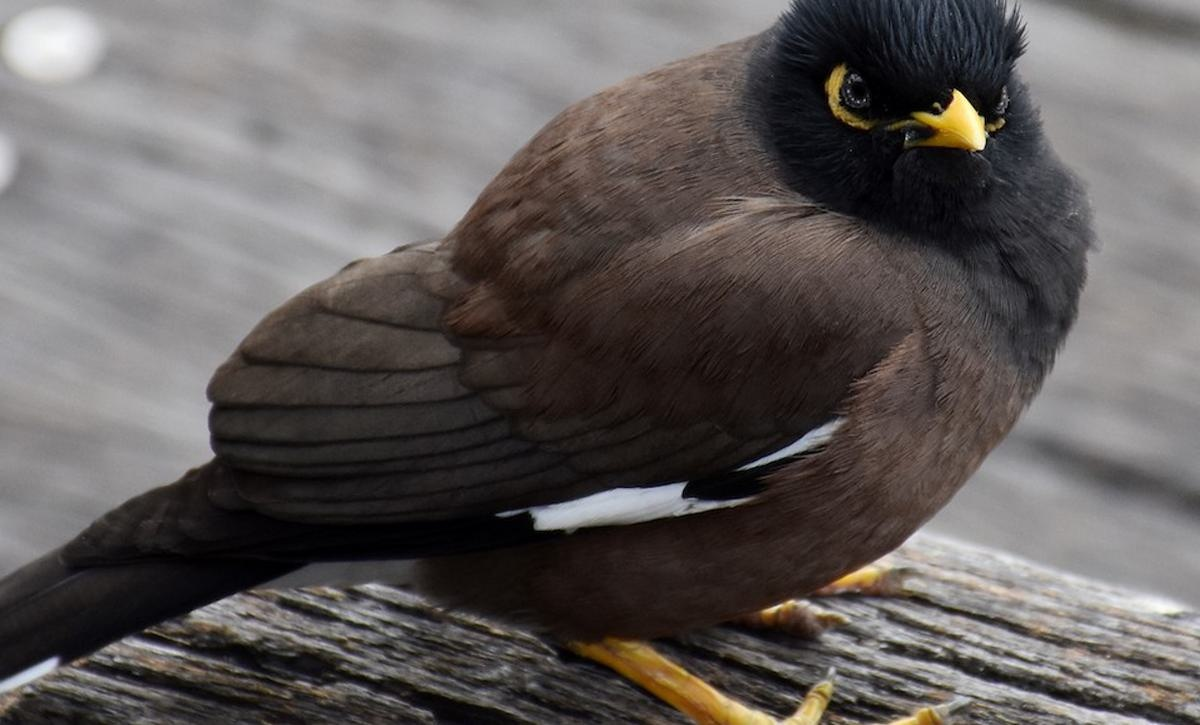myna: (356, 24, 1093, 697)
